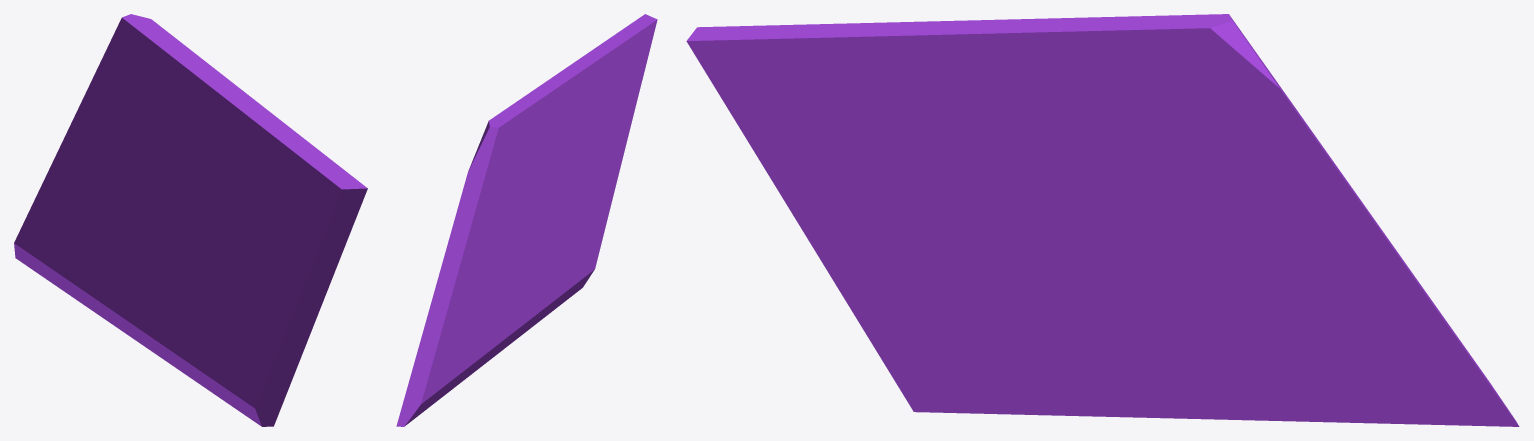
File: Window_46_8_chunks.fbx
The picture shows the model from 3 angles, left to right: view 1: azimuth 30°, elevation 25°; view 2: azimuth 150°, elevation 25°; view 3: azimuth 270°, elevation 25°; orthographic projection. The views are drawn at different scales.
Parts seen in each view (by area): view 1: Window_46_8_3, Window_46_8_1, Window_46_8_0, Window_46_8_2; view 2: Window_46_8_1, Window_46_8_3, Window_46_8_0, Window_46_8_2; view 3: Window_46_8_3, Window_46_8_1, Window_46_8_2, Window_46_8_0.
Boxes of the visible parts, bbox=[...] form: Window_46_8_3: bbox=[142, 25, 367, 342]; Window_46_8_1: bbox=[14, 14, 162, 281]; Window_46_8_0: bbox=[138, 204, 306, 426]; Window_46_8_2: bbox=[51, 239, 166, 361]; Window_46_8_1: bbox=[396, 116, 528, 426]; Window_46_8_3: bbox=[495, 14, 657, 218]; Window_46_8_0: bbox=[510, 183, 616, 340]; Window_46_8_2: bbox=[431, 267, 514, 405]; Window_46_8_3: bbox=[686, 15, 1189, 282]; Window_46_8_1: bbox=[1141, 14, 1519, 426]; Window_46_8_2: bbox=[1098, 215, 1453, 425]; Window_46_8_0: bbox=[834, 239, 1110, 416].
Size of the model in its own units: 27.2 by 398 by 750.
